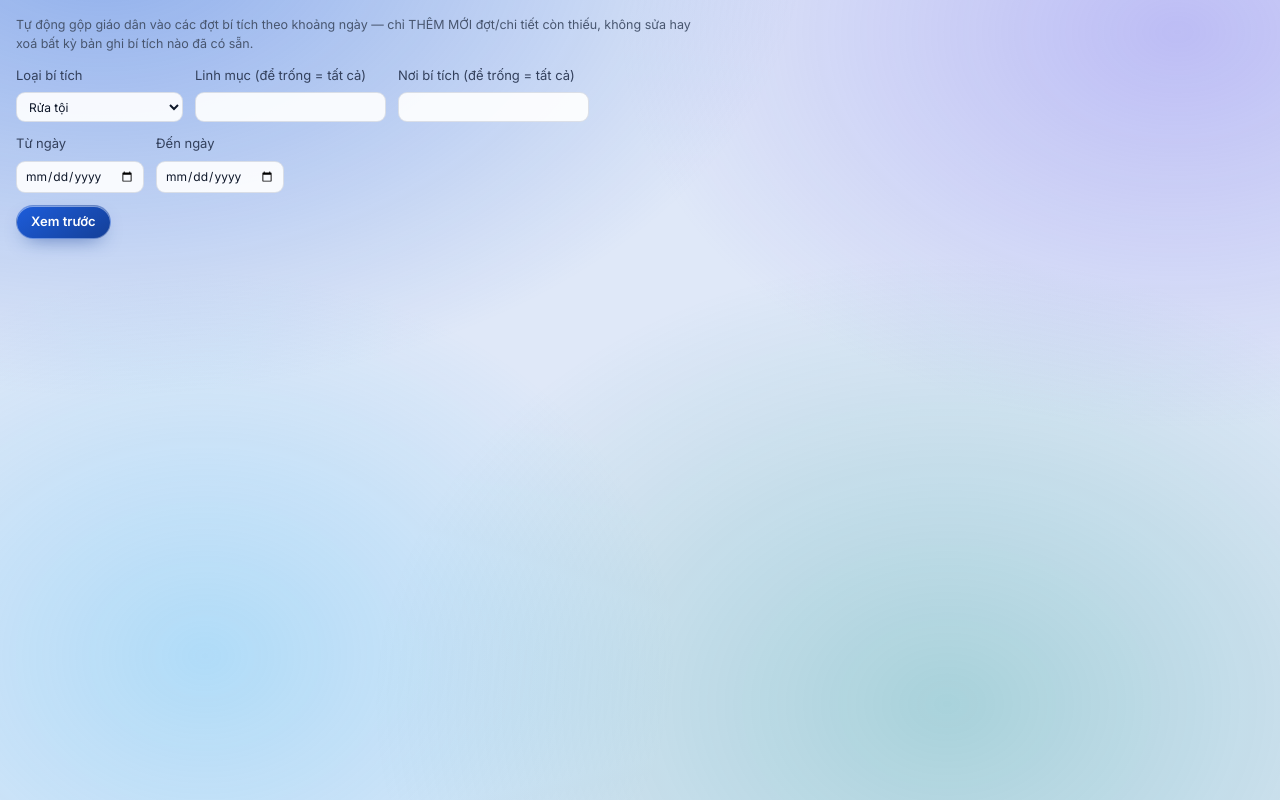
TaoDotBiTichTuDongPage › xem truoc hien dung con so va bang mau dot moi
Type "2021-03-01" into the date field labelled "Từ ngày" at x=80, y=176, box [16,160,144,192]
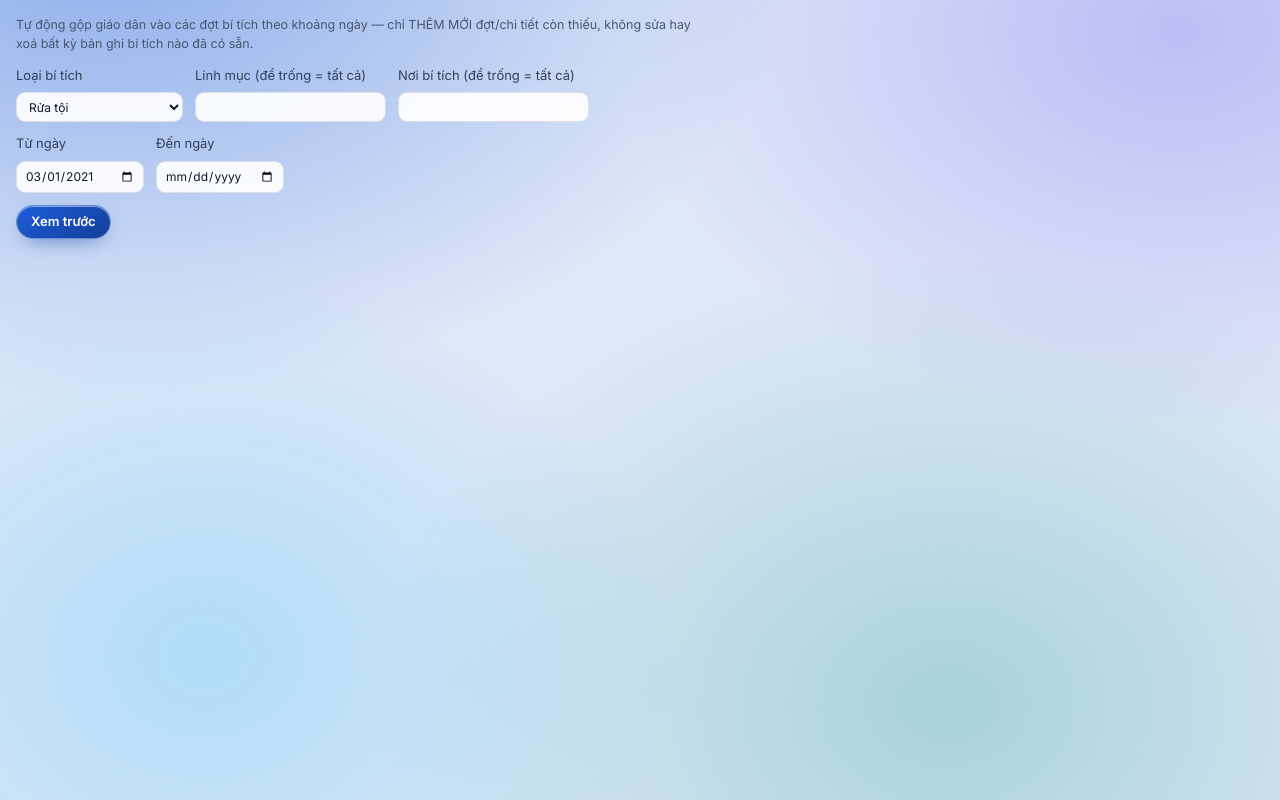
Type "2021-03-31" into the date field labelled "Đến ngày" at x=220, y=176, box [156,160,284,192]
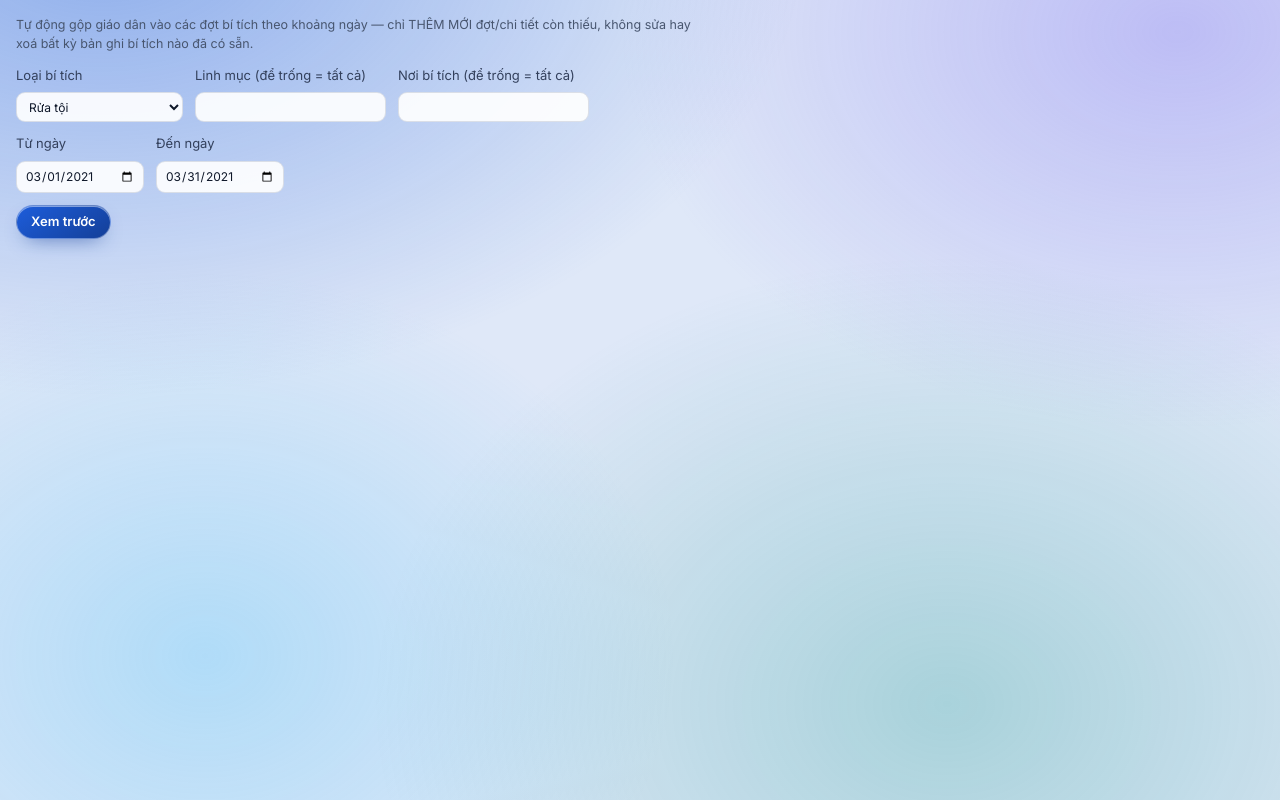
Click the button "Xem trước" at x=63, y=222, box [16,204,111,238]
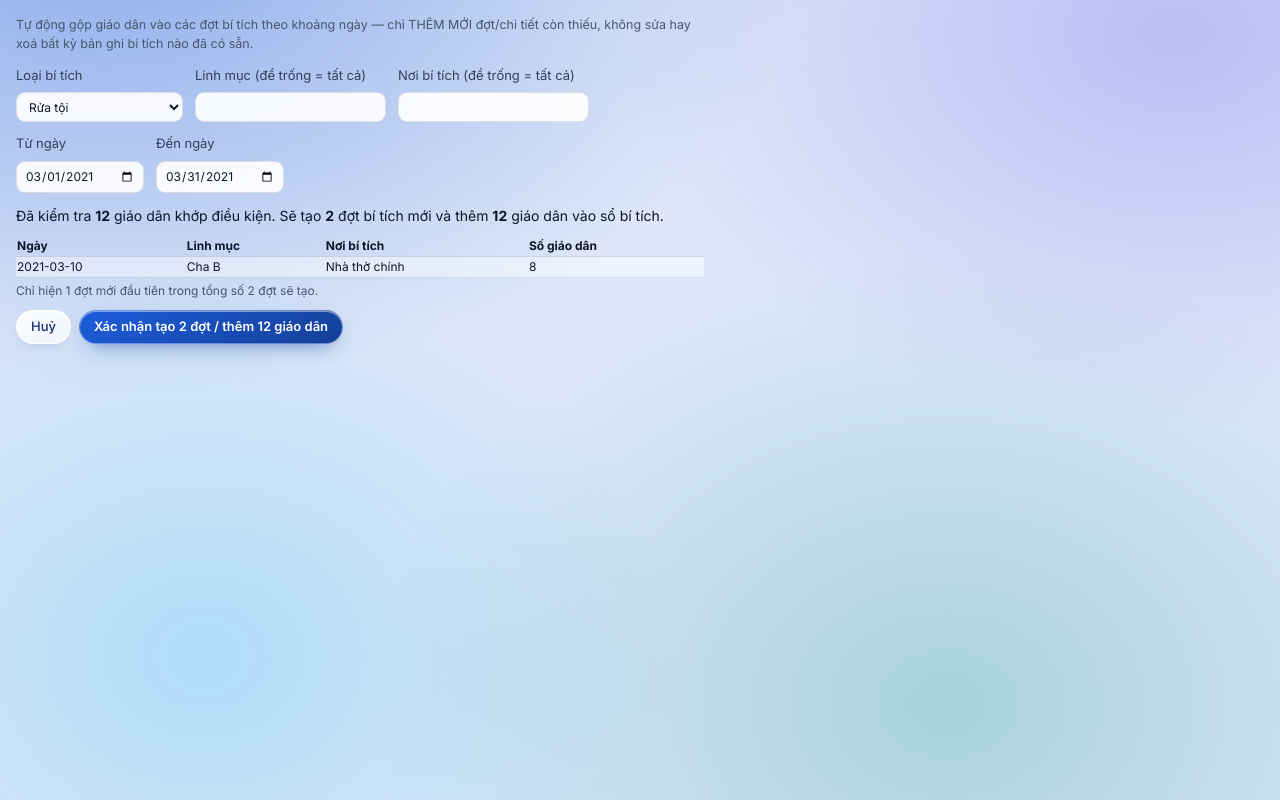
expect the text "Cha B" is shown: met, box [186,256,325,277]
expect the 1st text "12" is shown: met, box [95,206,110,224]
